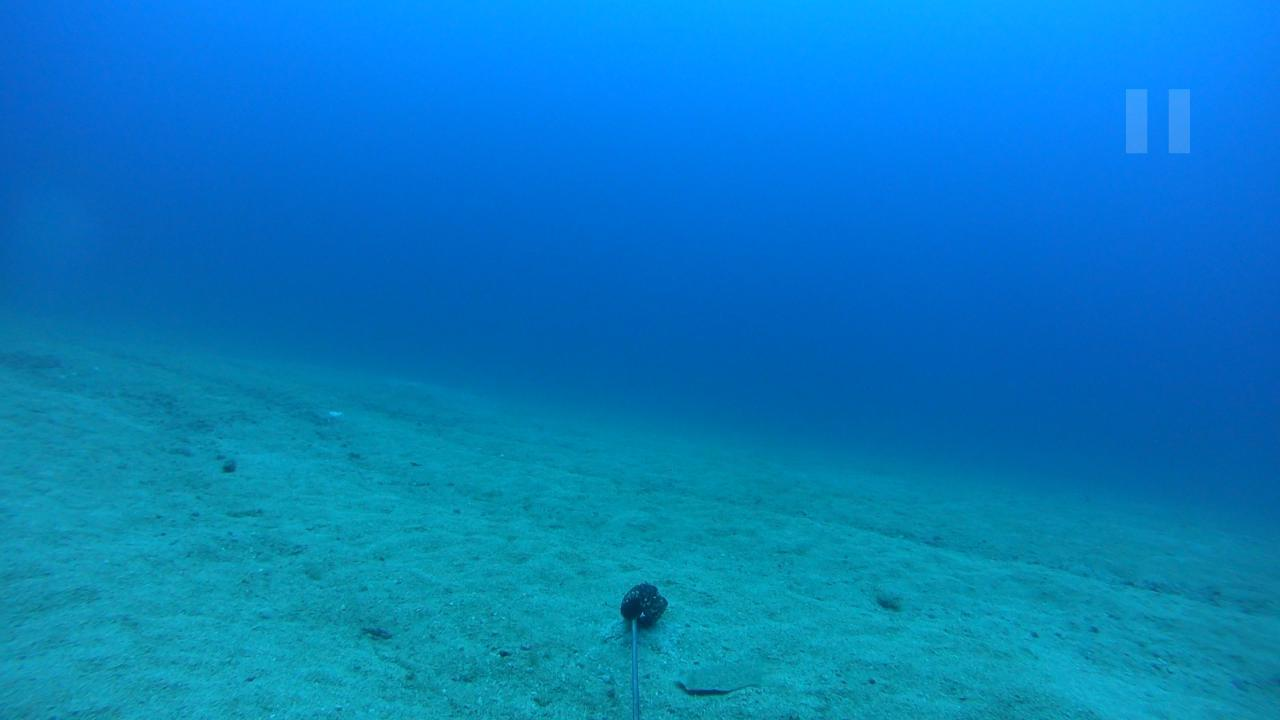bothus: (675, 646, 770, 703)
